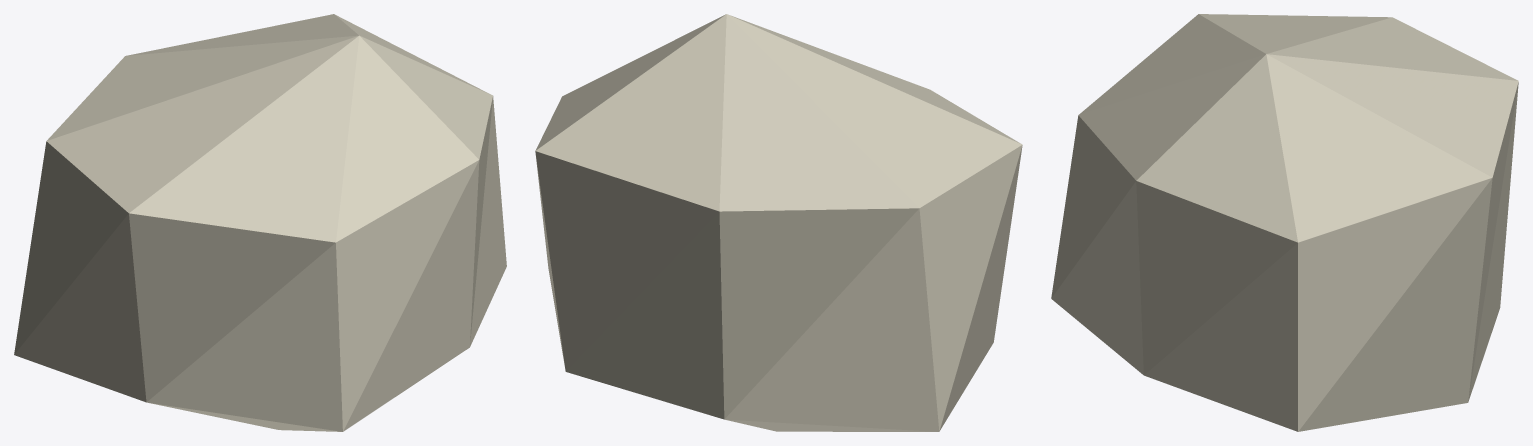
The model's file is rock-0.glb.
3 views of the same model, side by side, from view 1: azimuth 30°, elevation 25°; view 2: azimuth 150°, elevation 25°; view 3: azimuth 270°, elevation 25° (orthographic). The views are drawn at different scales.
Size of the model in its own units: 2.73 by 2.3 by 2.39.
